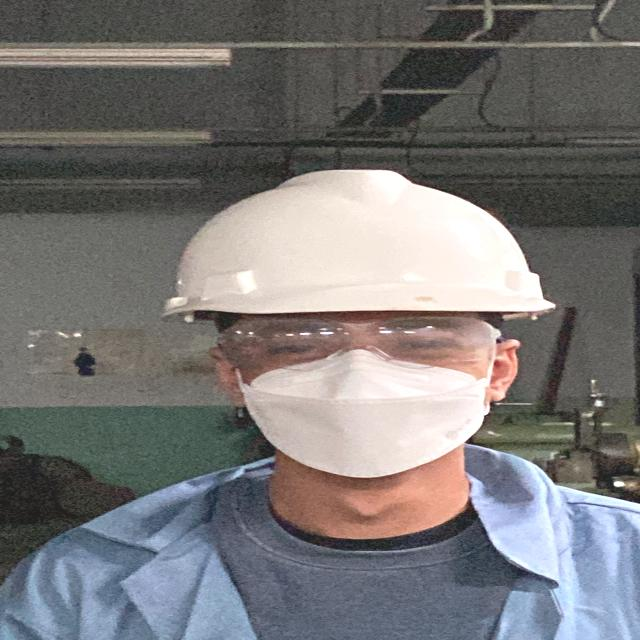face_mask: (217, 316, 510, 477)
glasses: (195, 310, 518, 369)
head_helmet: (157, 162, 556, 321)
